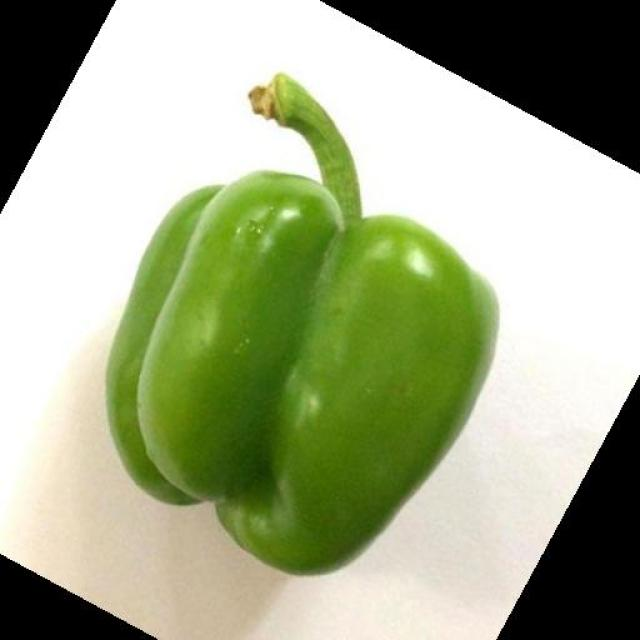Fresh_Capsicum: (109, 110, 486, 556)
